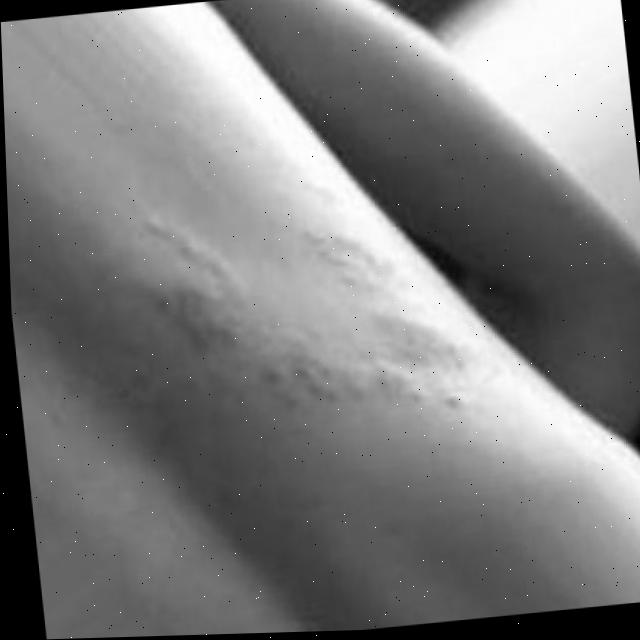Shingles: (141, 211, 471, 440)
